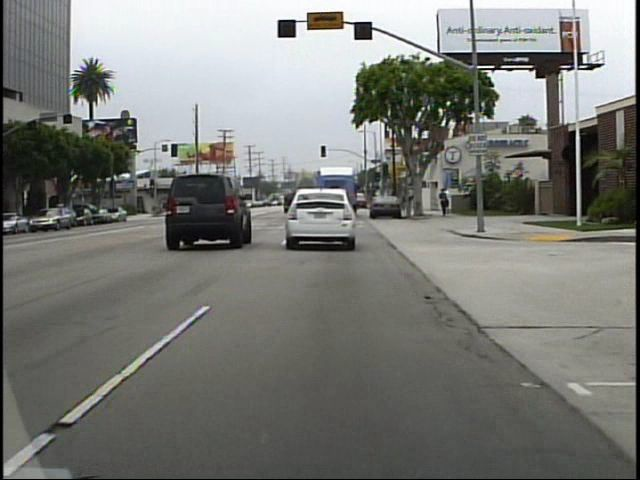person: (437, 187, 450, 219), (444, 186, 454, 215)
